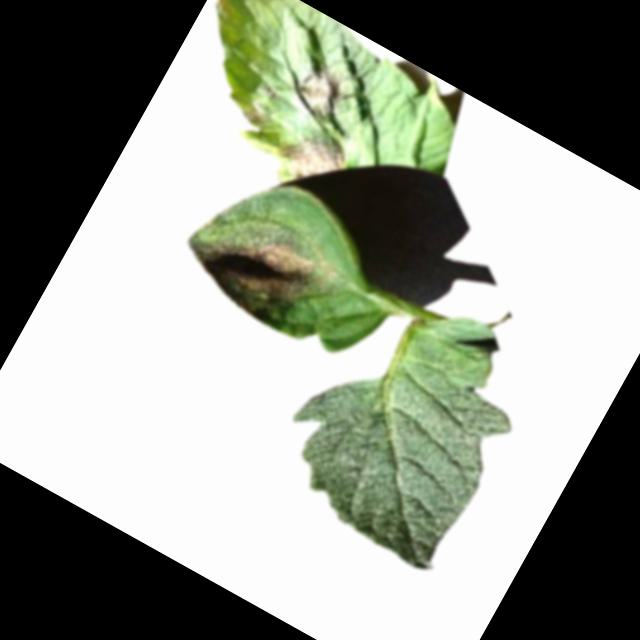Late_blight: (174, 204, 320, 332), (272, 117, 356, 196), (282, 55, 357, 127), (239, 102, 269, 131), (211, 1, 238, 20)
